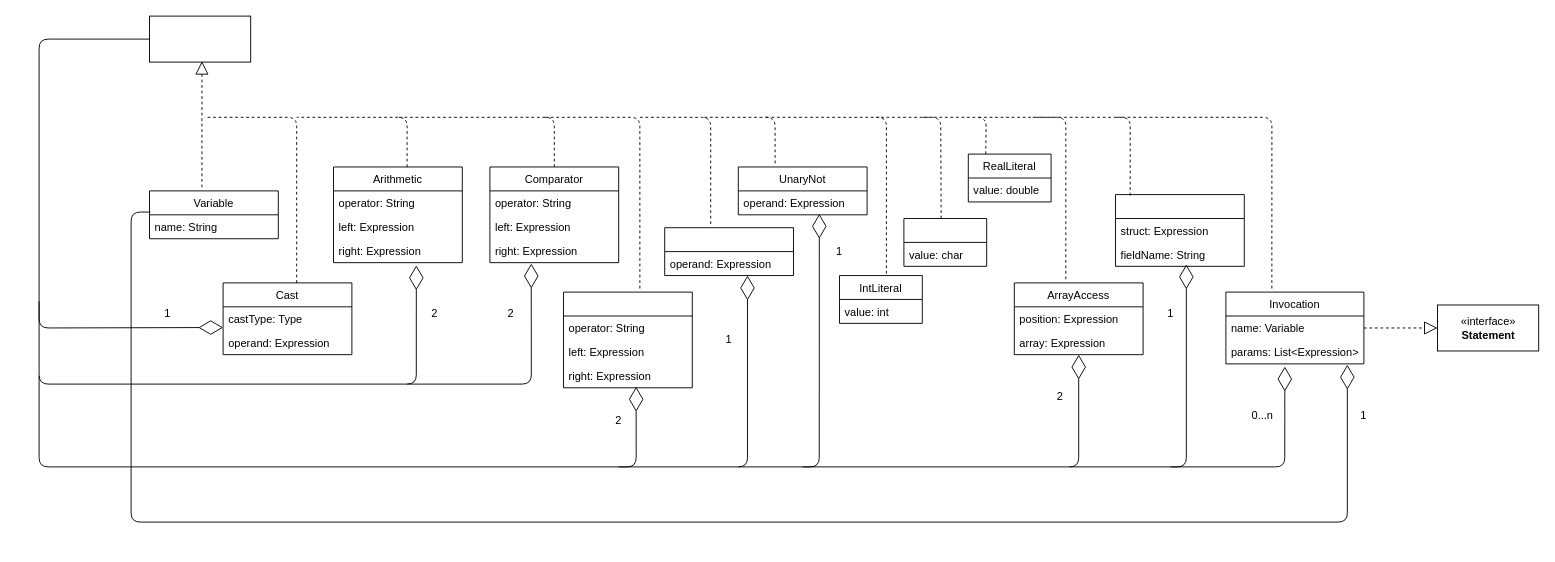
The diagram is 1555 pixels wide and 562 high, and some of its shapes have lost their labels. The shapes that lost their labels are listed below. From the top down, each one's box as (x1, y1, x2, y2) in pixels, then its label:
(149, 15, 251, 62): «interface» Expression
(903, 218, 987, 266): CharLiteral
(1115, 194, 1244, 266): FieldAccess
(664, 227, 794, 276): UnaryMinus
(563, 291, 692, 388): Conditional
